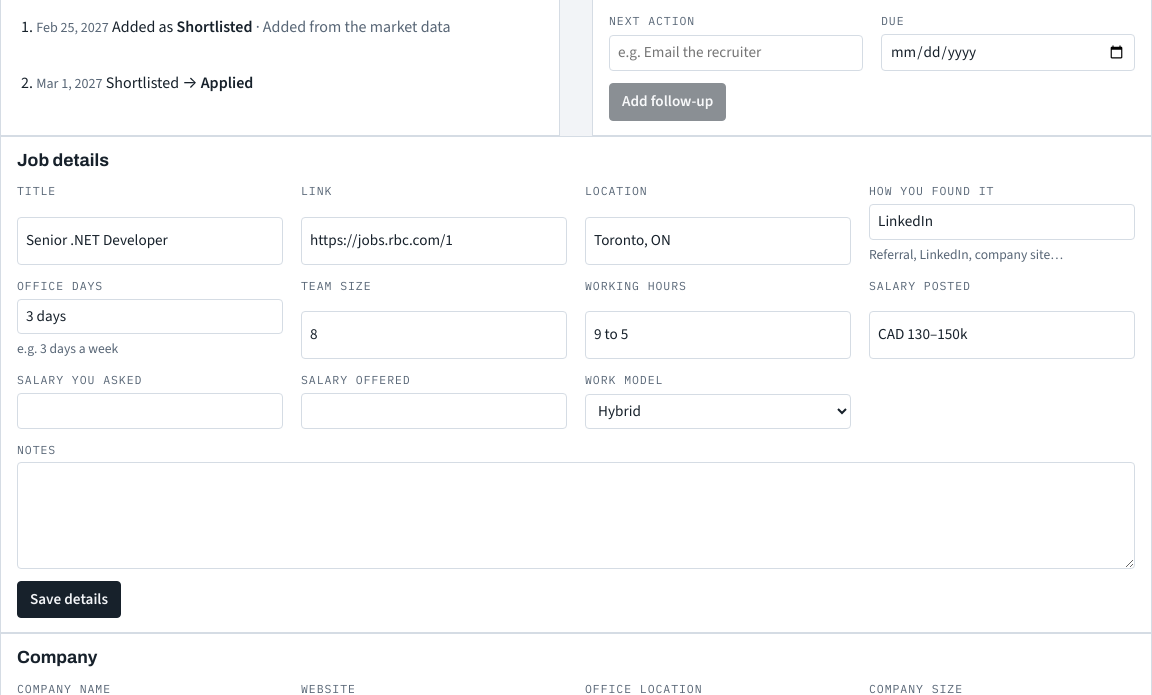
Test: Entry page › keeps unsaved details on a real conflict, and Reload takes the latest values
(page scrolled)
Replace the text in the field labelled "Team size" with "9" at [434, 335], box [301,311,567,359]
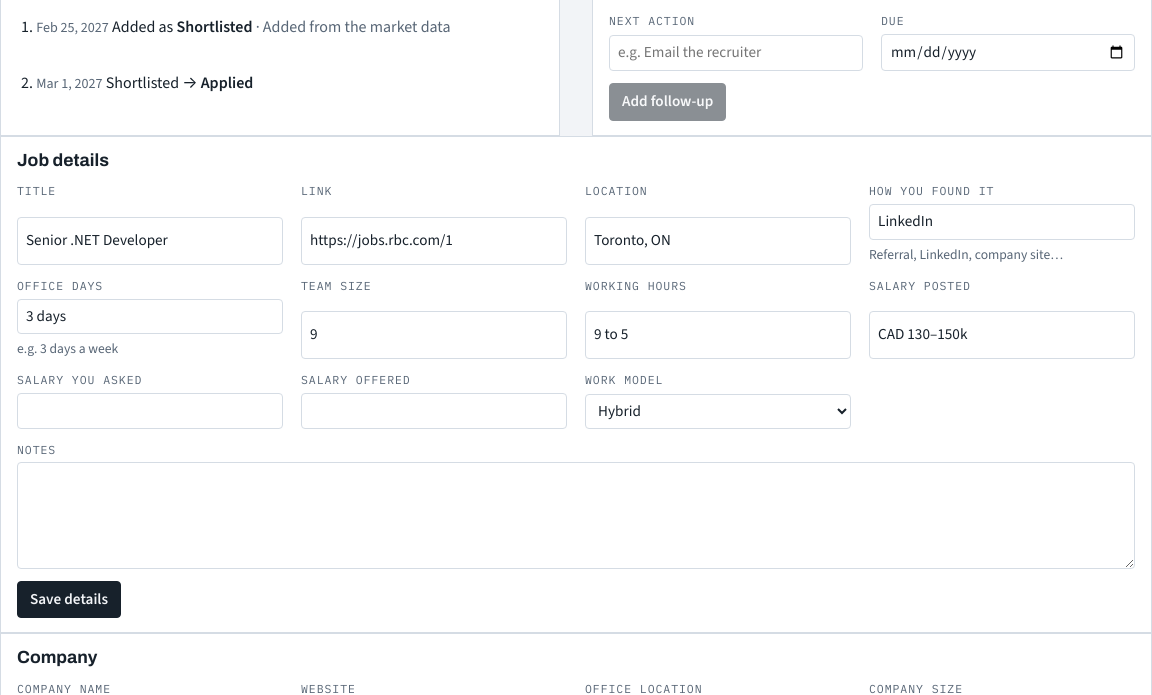
Click the button "Save details" at [69, 600], box [17,581,121,618]
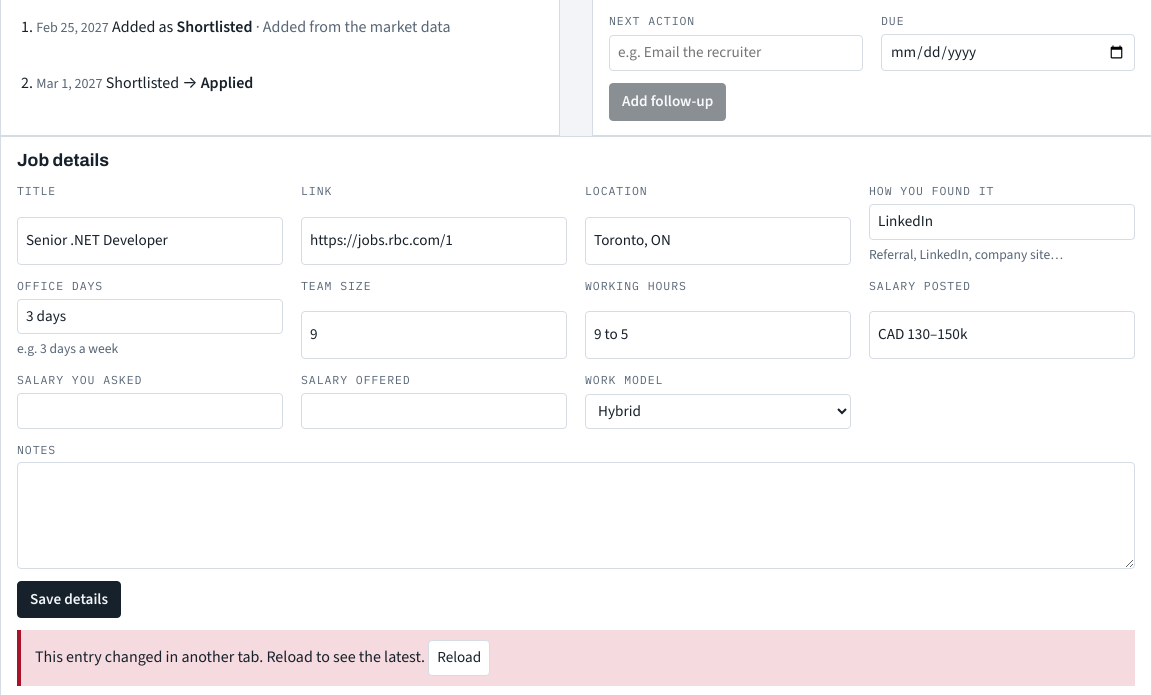
Expected: the text "This entry changed in another tab. Reload to see the latest. Reload" is shown, [17,630,1135,686]
Click the button "Reload" at [459, 658], box [428,640,490,676]
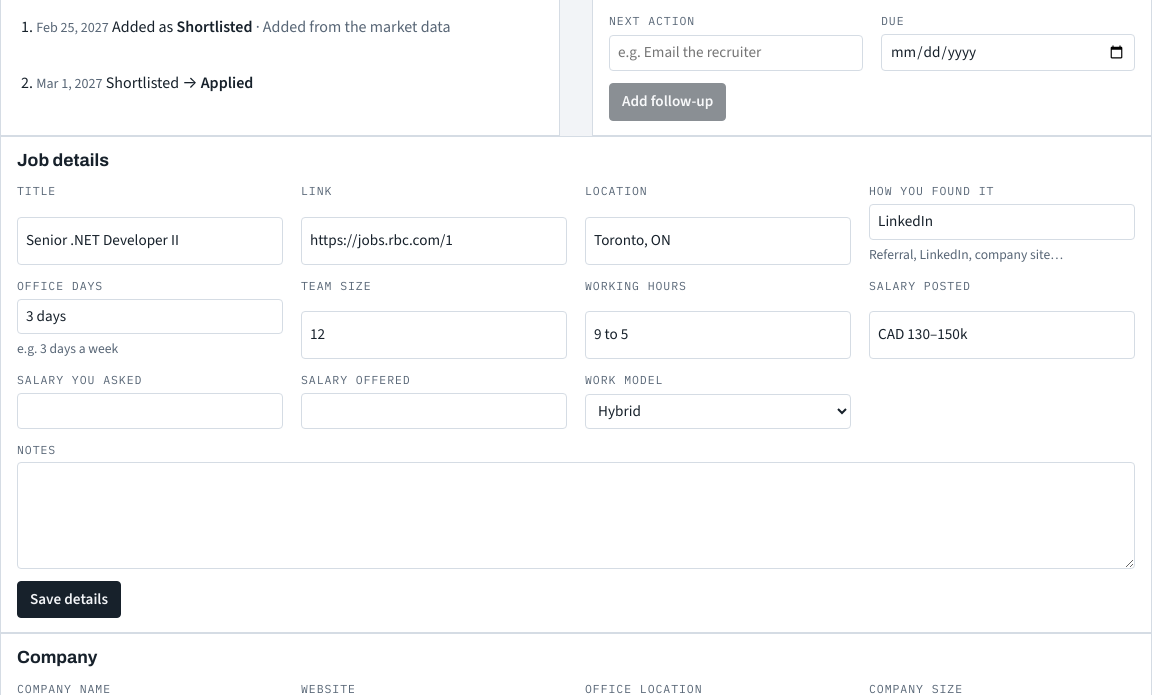
Expected: the field labelled "Team size" holds "12", [301,311,567,359]
